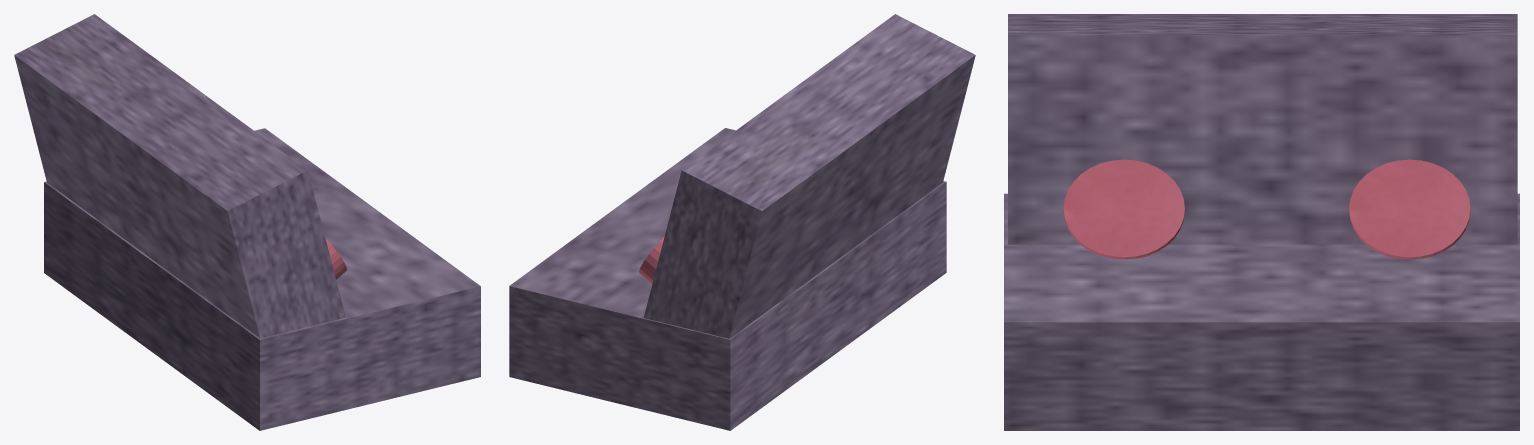
File: Sofa.fbx
3 renders of one model, left to right at view 1: azimuth 30°, elevation 25°; view 2: azimuth 150°, elevation 25°; view 3: azimuth 270°, elevation 25°, orthographic. The views are drawn at different scales.
Visible parts, largest first — view 1: Cube.001, Cube; view 2: Cube.001, Cube, Cylinder.001; view 3: Cube.001, Cube, Cylinder.001, Cylinder.
Boxes of the visible parts, left/top/right/bottom form: Cube.001: left=14, top=14, right=345, bottom=338; Cube: left=44, top=128, right=480, bottom=430; Cube.001: left=643, top=14, right=975, bottom=338; Cube: left=509, top=128, right=946, bottom=430; Cylinder.001: left=639, top=236, right=664, bottom=284; Cube.001: left=1008, top=14, right=1517, bottom=244; Cube: left=1004, top=193, right=1519, bottom=430; Cylinder.001: left=1349, top=159, right=1470, bottom=259; Cylinder: left=1063, top=159, right=1184, bottom=259.
Bounding box in the file's own units: 580 × 545 × 861.
Materials: 4 (4 with a texture image).
